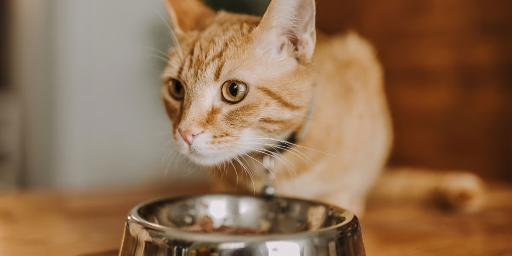cat_eating: (120, 0, 483, 256)
